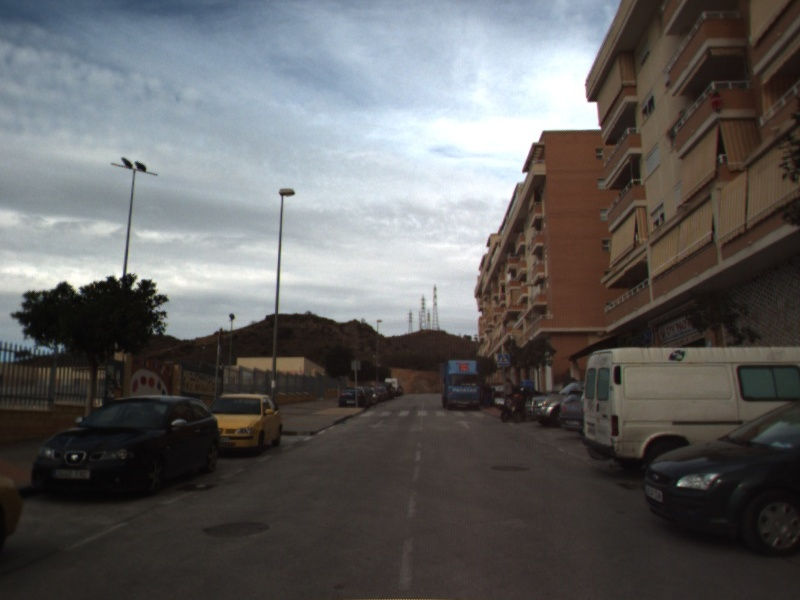STRAIGHT: (454, 417, 474, 431)
